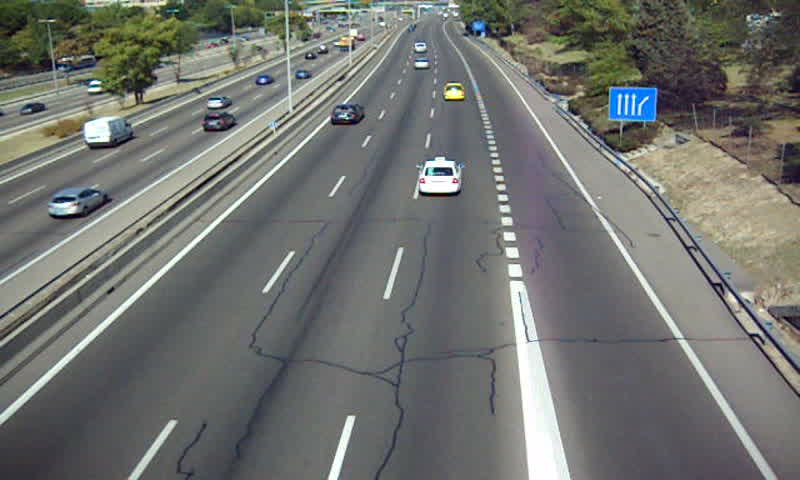car: (418, 160, 463, 195), (331, 105, 364, 126), (443, 82, 465, 100), (413, 57, 430, 70)
